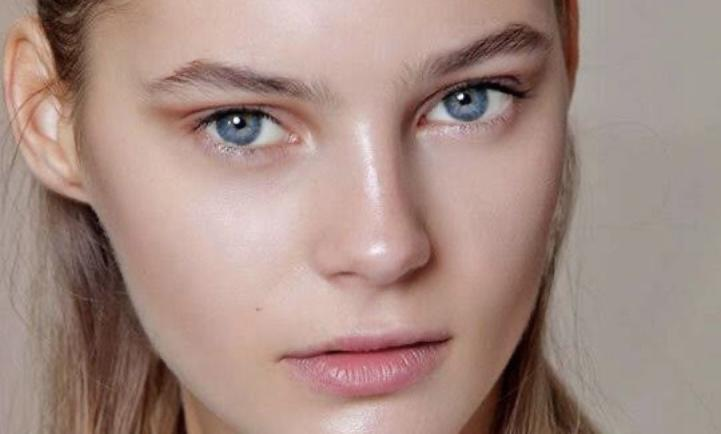Oily-Skin: (179, 192, 283, 324), (317, 153, 427, 271), (461, 173, 530, 346), (329, 346, 418, 434)
